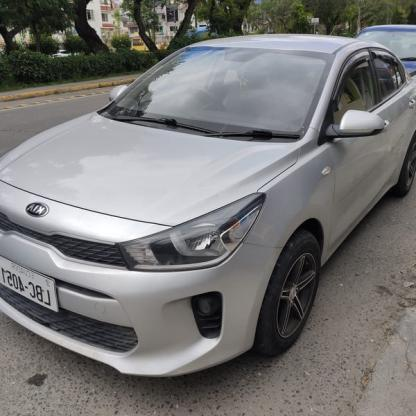Placa: (0, 256, 54, 320)
